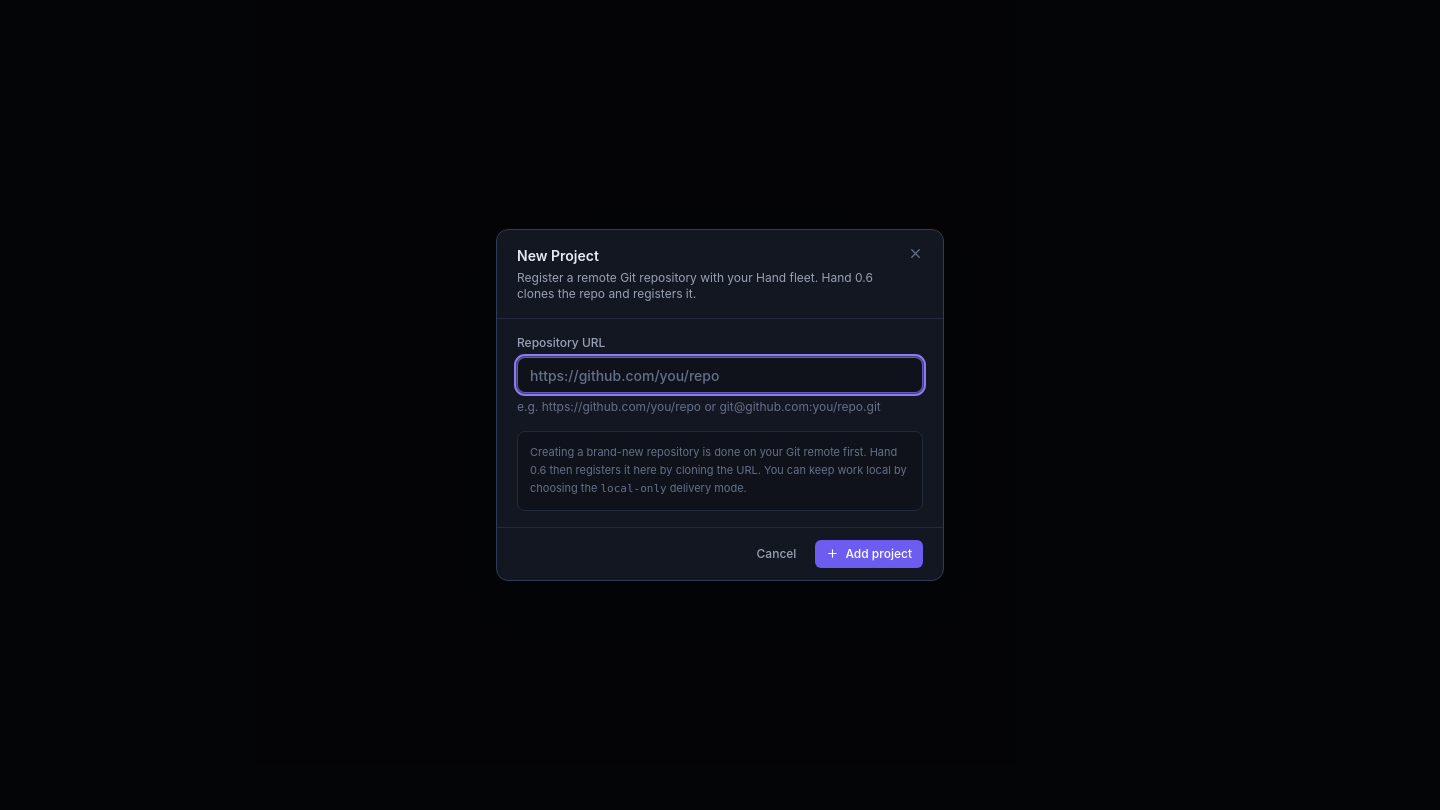
Scenario: ProjectCreateDialog › adds a project from a Git URL
Type "https://github.com/acme/demo.git" into the field labelled "Repository URL".
click(720, 375); type("https://github.com/acme/demo.git")  # box [517,357,923,393]
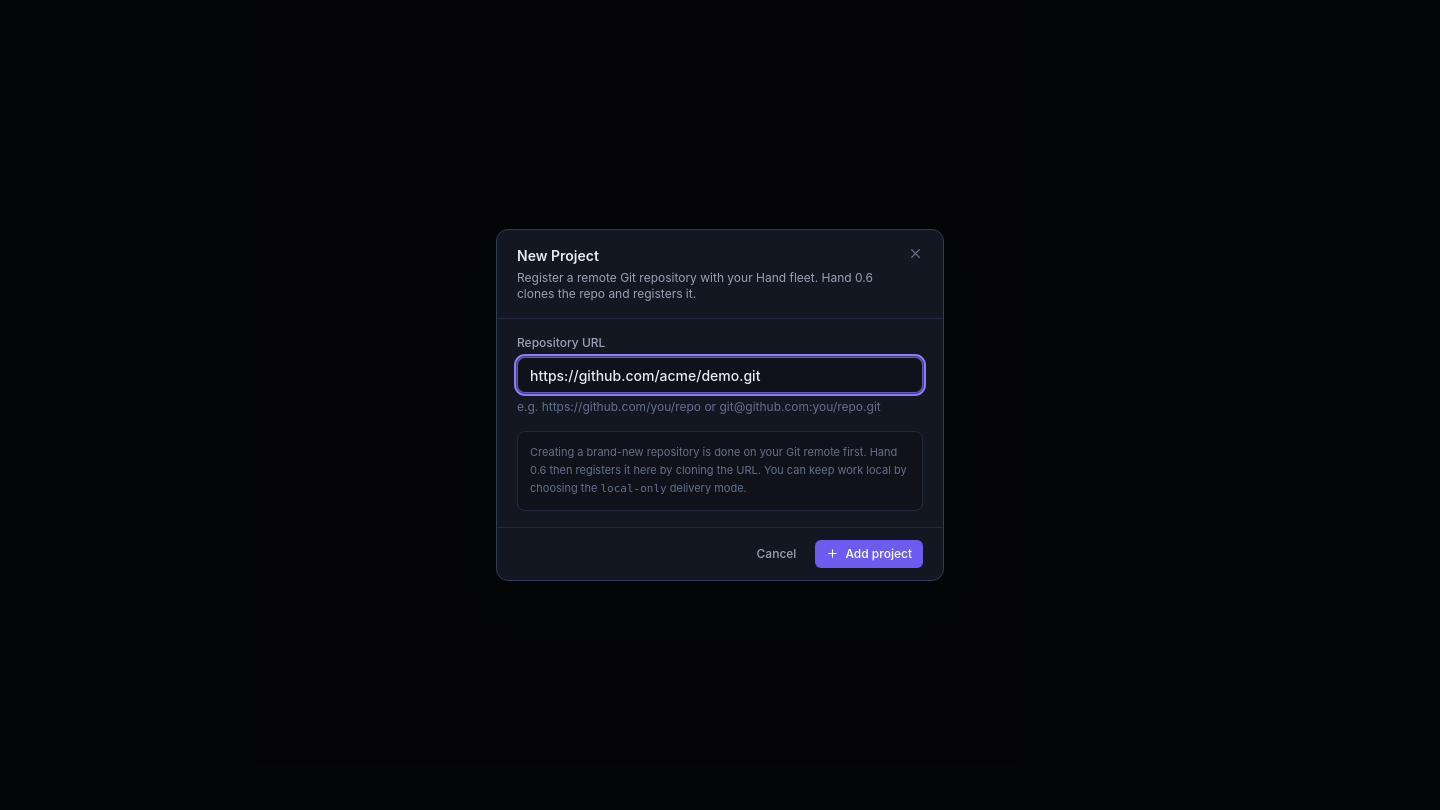
Click the button "Add project".
click(869, 554)  # box [815,540,923,568]
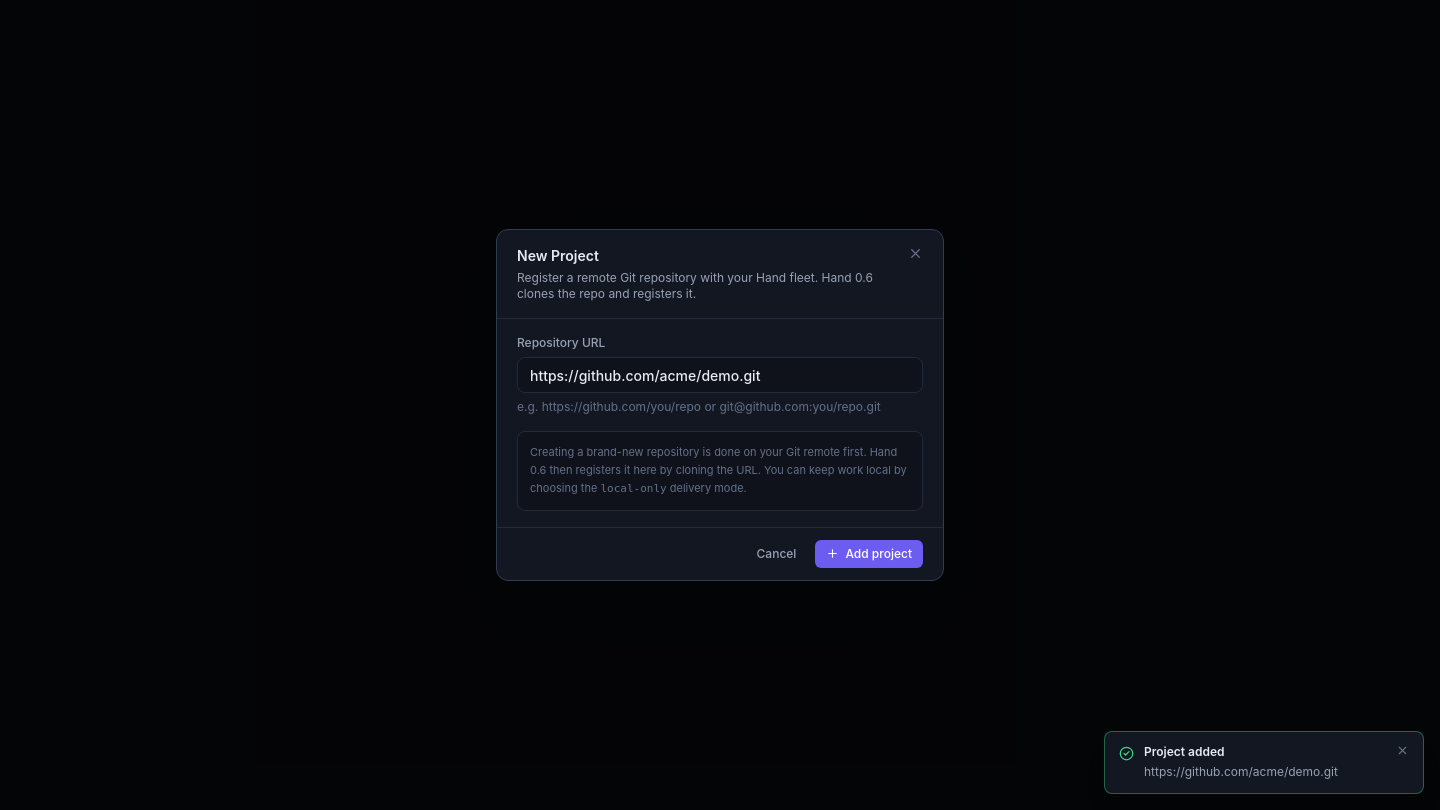
Result: the text "Project added" is shown at [1144,744,1224,758]
